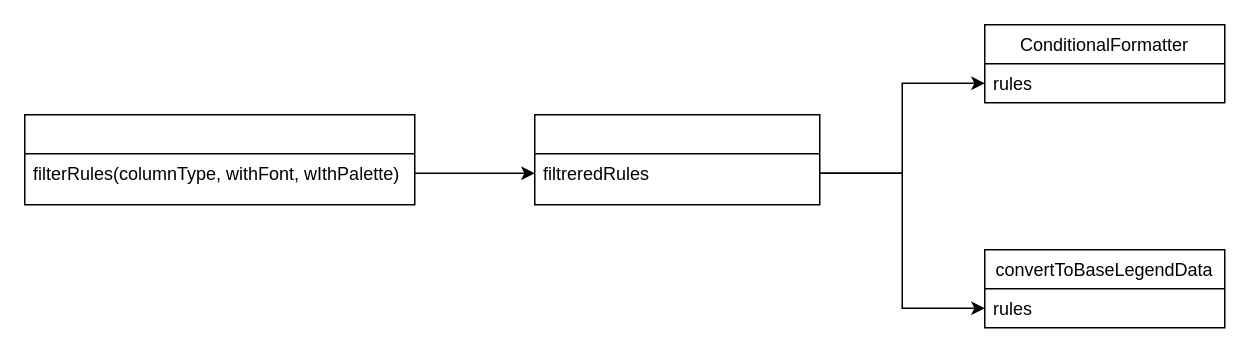
Some shapes in this 1250 by 353 pixel diagram are drawn without their labels. The shapes that lost their labels are listed below. From the top down, each one's box as (x1, y1, x2, y2) in pixels, then its label:
(23, 113, 415, 205): ColorConditionFormatter
(533, 113, 820, 205): СonditionalFormattingConnector
